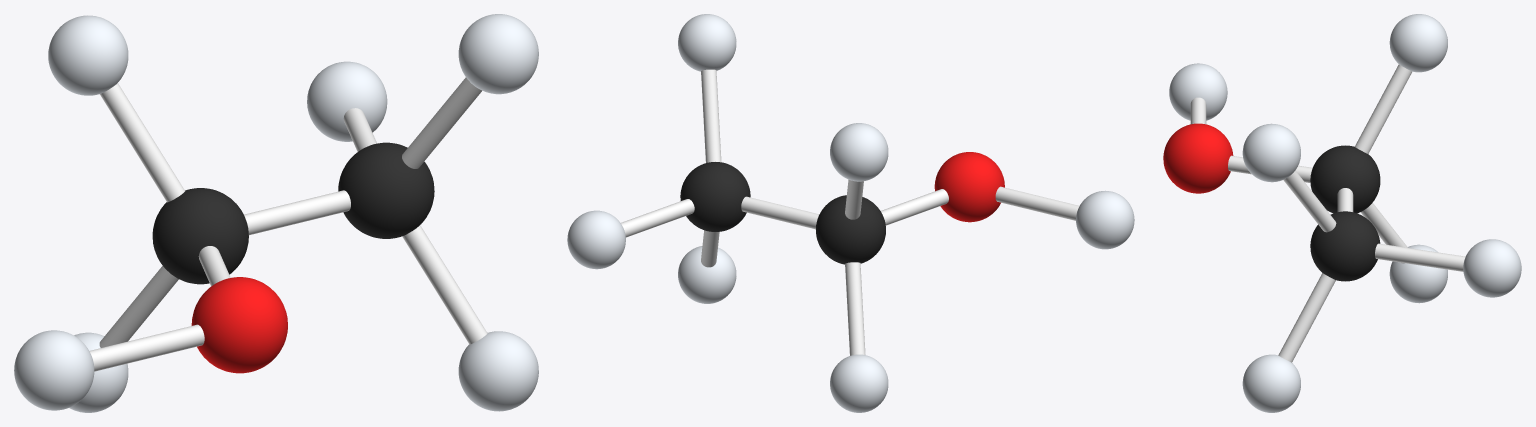
File: ethanol.fbx
3 views of the same model, side by side, from view 1: azimuth 30°, elevation 25°; view 2: azimuth 150°, elevation 25°; view 3: azimuth 270°, elevation 25° (orthographic). The views are drawn at different scales.
Parts seen in each view (by area): view 1: alkanoles; view 2: alkanoles; view 3: alkanoles.
Part boxes in pixels (bbox=[...]): alkanoles: bbox=[14, 14, 538, 412]; alkanoles: bbox=[567, 14, 1134, 412]; alkanoles: bbox=[1163, 14, 1521, 412].
Bounding box in the file's own units: 243 × 161 × 184.
